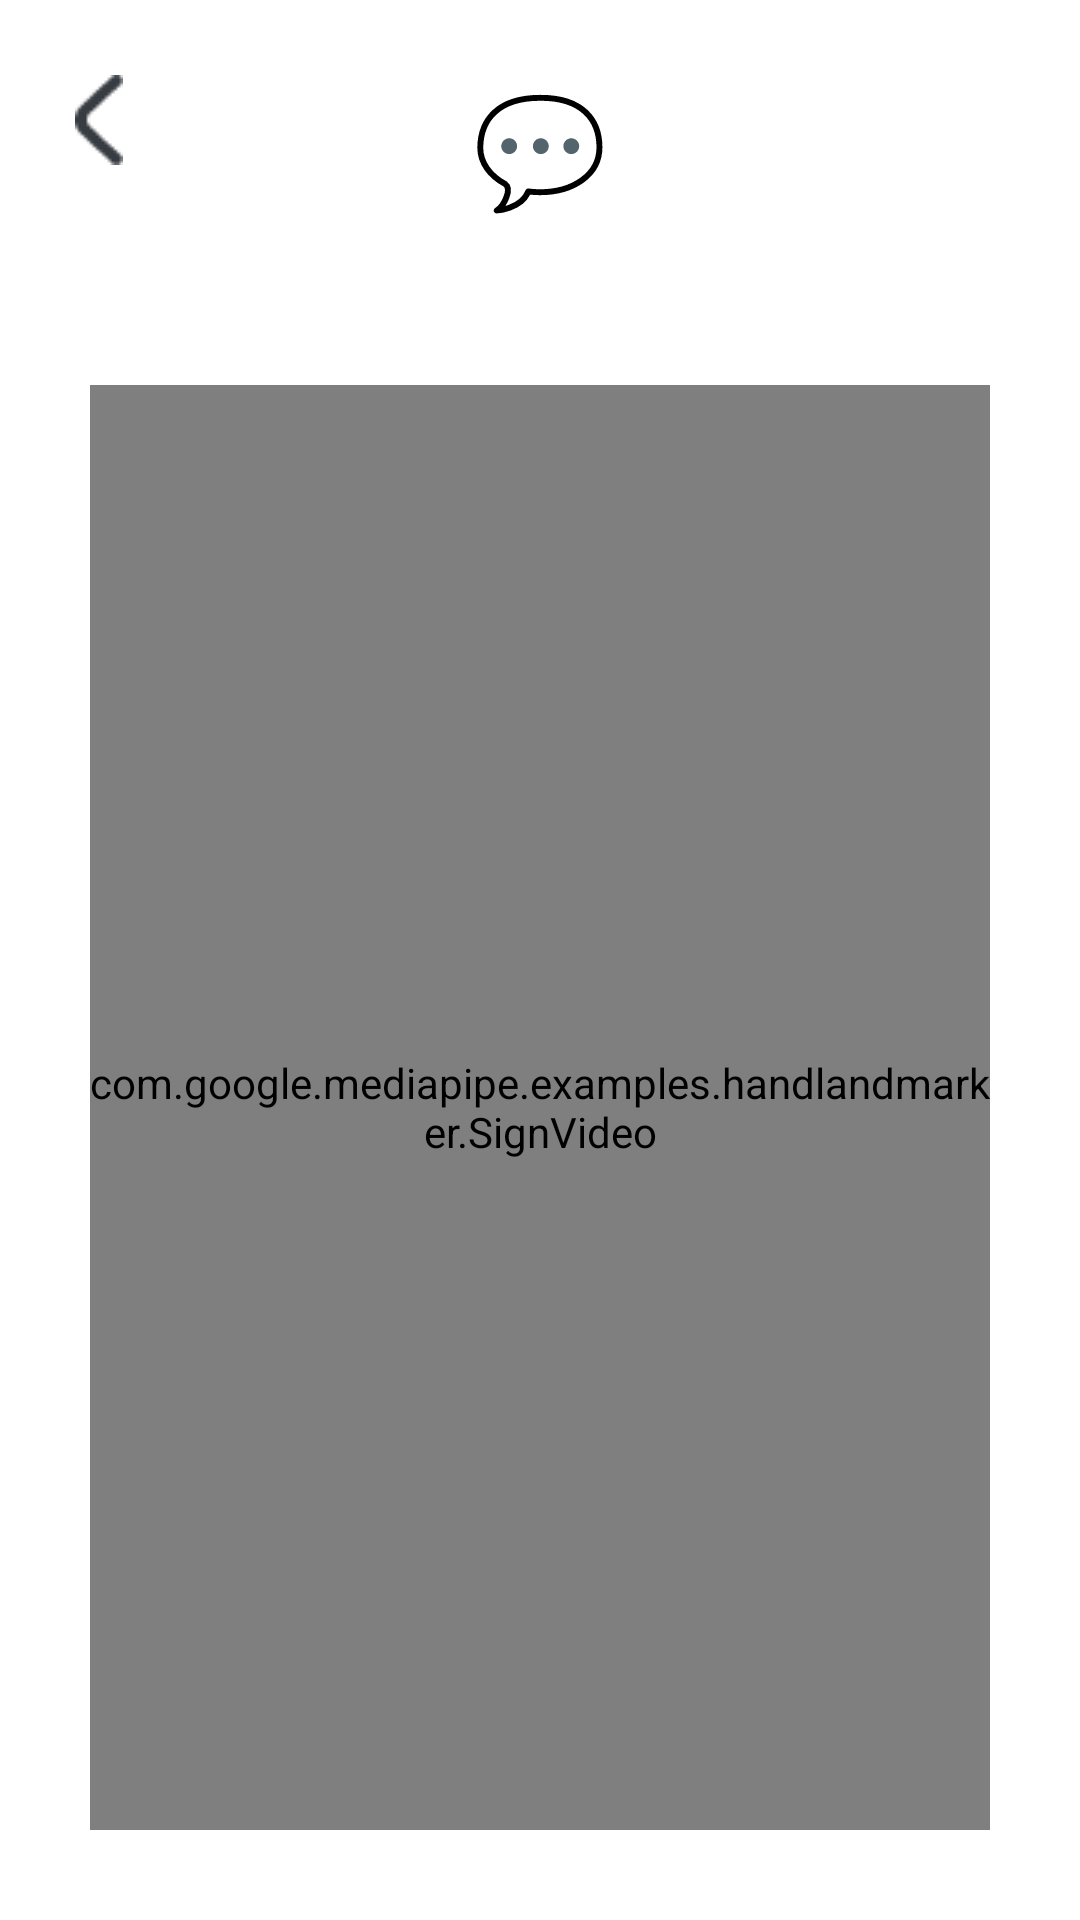

Icon bounding boxes for this 1080x1920 phone screenshot, format (x1, y1, x2, y2):
back: (75, 75, 123, 165)
